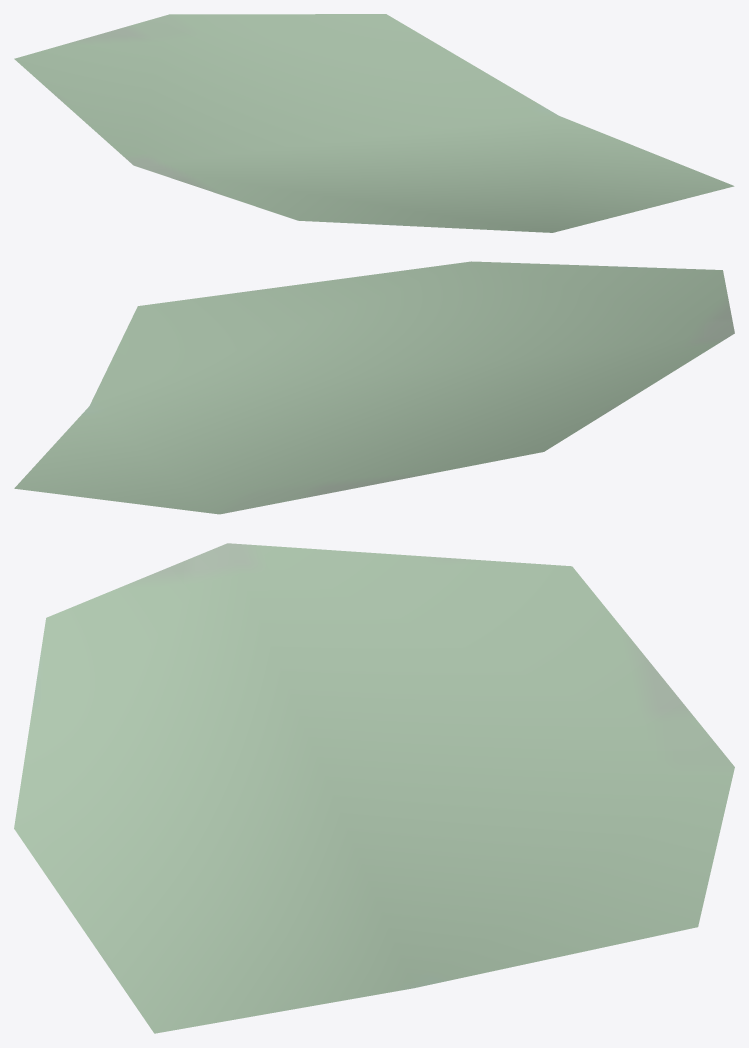
File: TROLLHOLE02_HOLECAP102.fbx
The picture shows the model from 3 angles, top to bottom: view 1: azimuth 30°, elevation 25°; view 2: azimuth 150°, elevation 25°; view 3: azimuth 270°, elevation 25°; orthographic projection. The views are drawn at different scales.
Visible parts, largest first — view 1: TROLLHOLE02_HOLECAP102; view 2: TROLLHOLE02_HOLECAP102; view 3: TROLLHOLE02_HOLECAP102.
Part boxes in pixels (x1,y1,x2,y2): TROLLHOLE02_HOLECAP102: (14, 14, 734, 232); TROLLHOLE02_HOLECAP102: (14, 261, 734, 514); TROLLHOLE02_HOLECAP102: (14, 543, 734, 1033).
Bounding box in the file's own units: 27540 × 6329 × 25537.
1 material, 1 textured.
